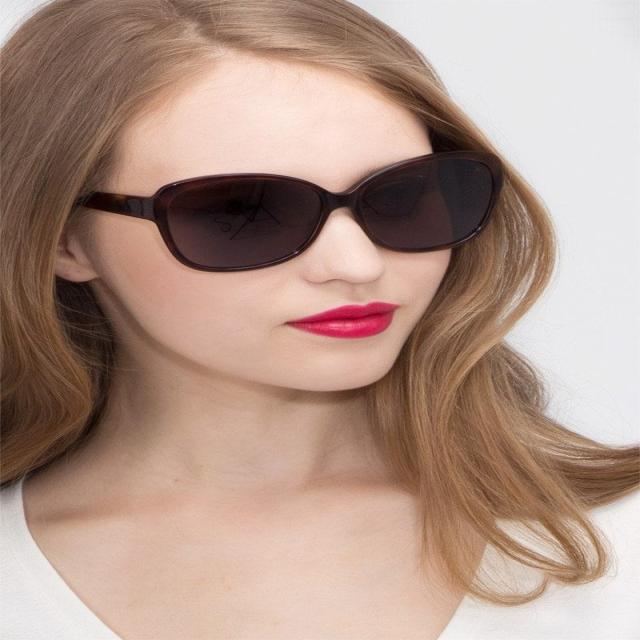2_gafas: (72, 148, 505, 273)
